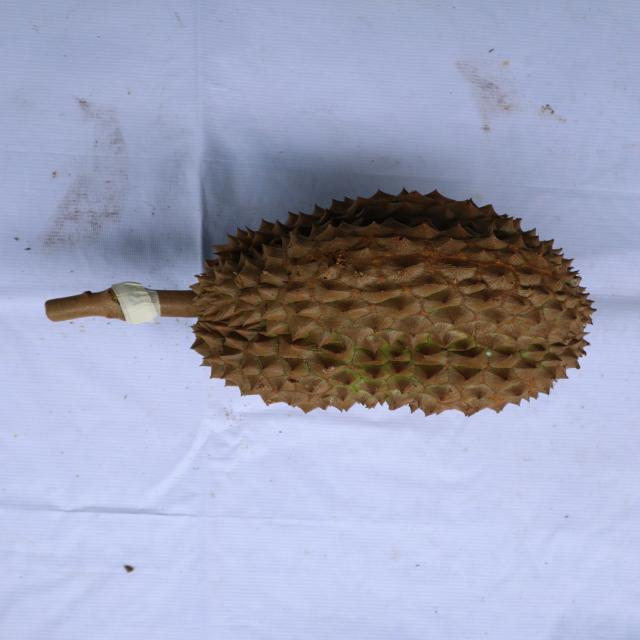mature: (189, 188, 594, 421)
